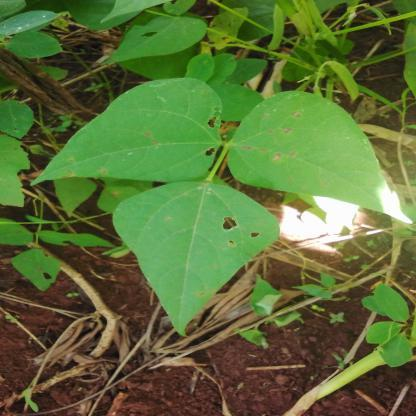Beans_Angular_LeafSpot: (222, 97, 409, 236), (119, 190, 266, 342), (30, 76, 222, 192)
